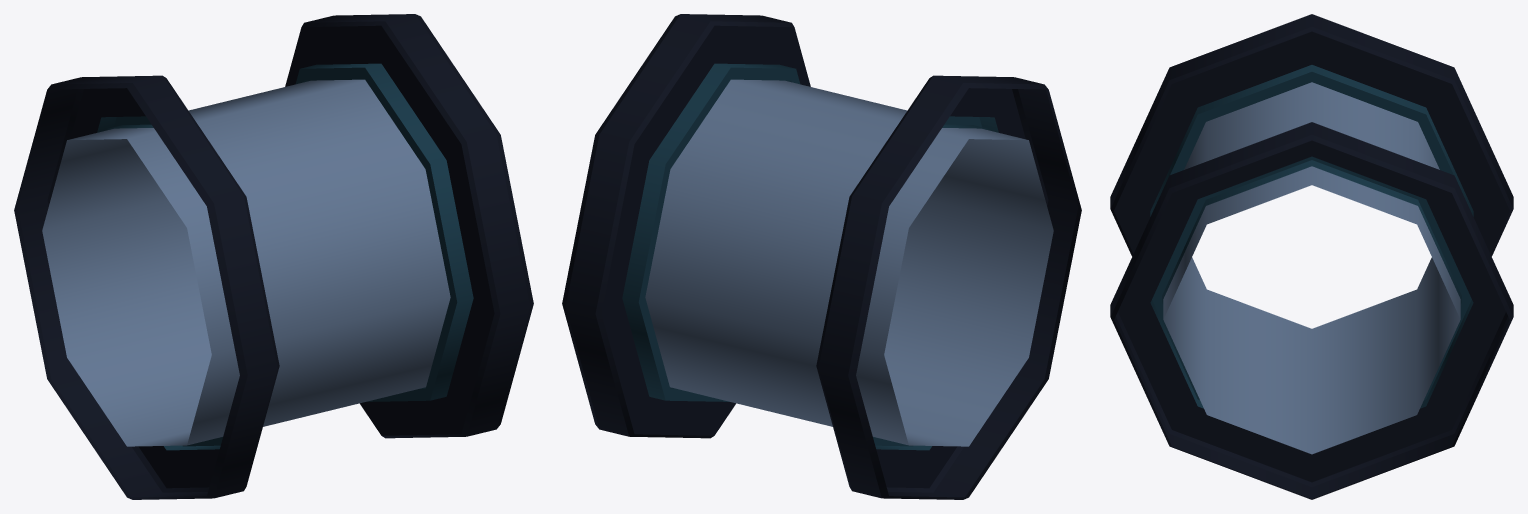
File: PipeComplexSmall_A_Short_1.fbx
The picture shows the model from 3 angles, left to right: view 1: azimuth 30°, elevation 25°; view 2: azimuth 150°, elevation 25°; view 3: azimuth 270°, elevation 25°; orthographic projection. The views are drawn at different scales.
Parts seen in each view (by area): view 1: PipeComplexSmall_A_Short_1.001; view 2: PipeComplexSmall_A_Short_1.001; view 3: PipeComplexSmall_A_Short_1.001.
Boxes of the visible parts, bbox=[...] form: PipeComplexSmall_A_Short_1.001: bbox=[14, 14, 533, 499]; PipeComplexSmall_A_Short_1.001: bbox=[562, 14, 1081, 499]; PipeComplexSmall_A_Short_1.001: bbox=[1110, 14, 1513, 499].
Size of the model in its own units: 0.1 by 0.1356 by 0.1356.
